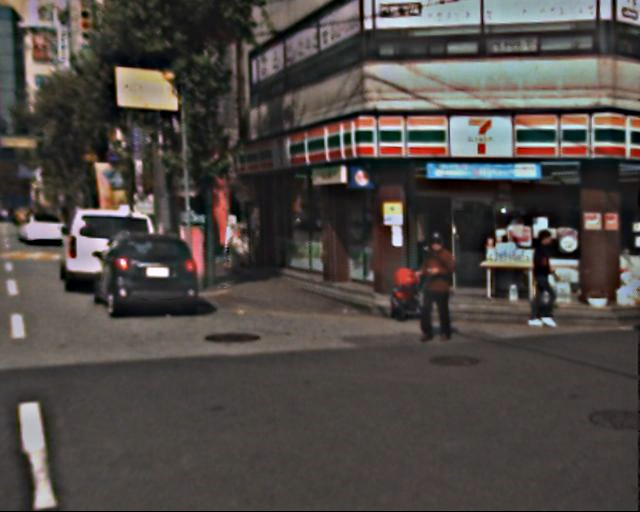person: (415, 233, 469, 341), (524, 227, 571, 331)
